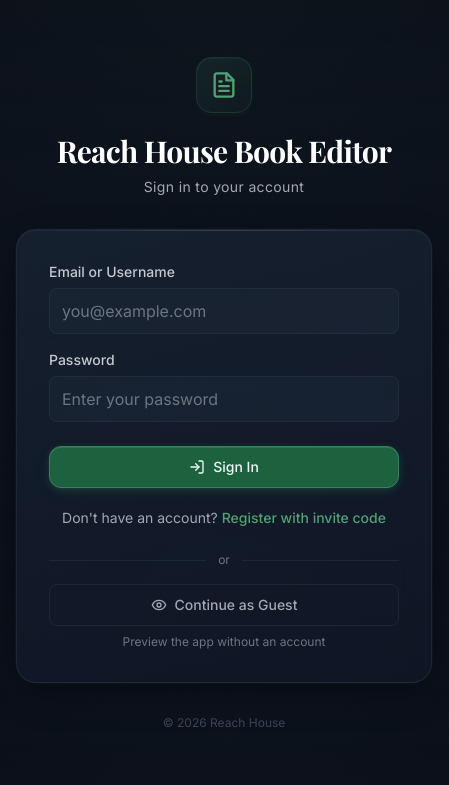
Scenario: LoginPage › shows error for empty fields
Click the button "Sign In" at [224, 467], box top-left (49, 446), bottom-right (399, 488)
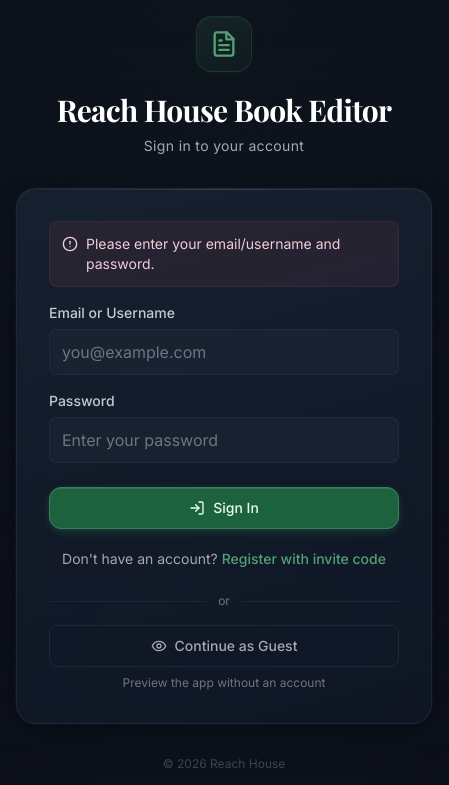
Expected: the text "Please enter your email/username and password." is shown, top-left (86, 235), bottom-right (340, 272)
